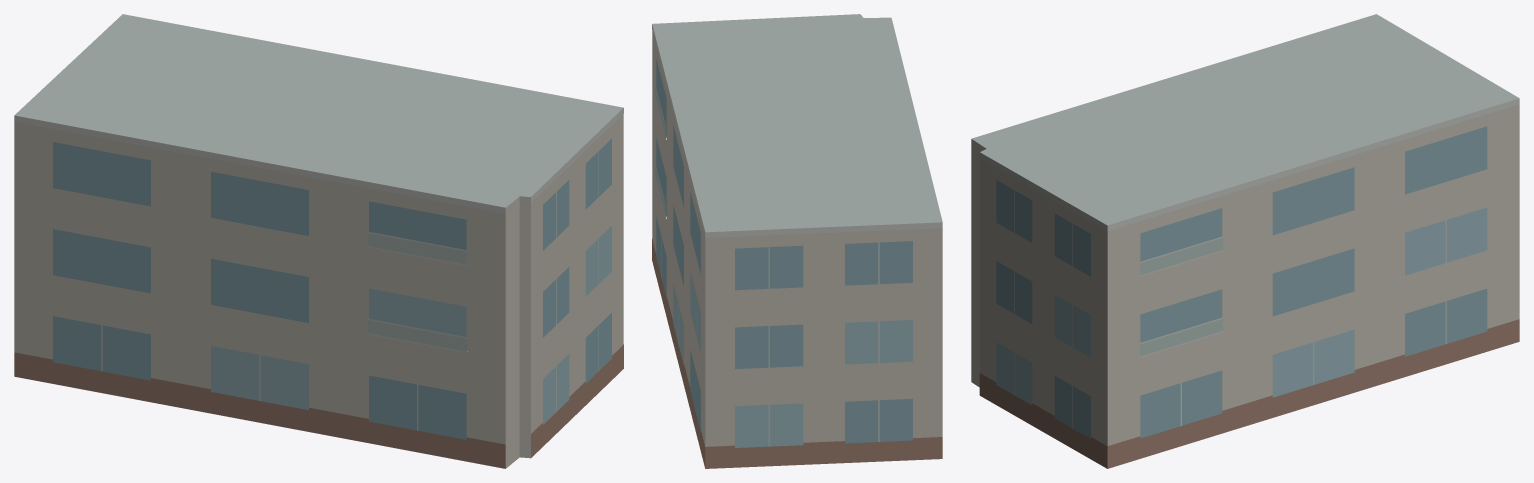
File: survey-upis-32530852.glb
3 renders of one model, left to right at view 1: azimuth 30°, elevation 25°; view 2: azimuth 150°, elevation 25°; view 3: azimuth 270°, elevation 25°, orthographic. The views are drawn at different scales.
Visible parts, largest first — view 1: survey-upis-32530852.tmp; view 2: survey-upis-32530852.tmp; view 3: survey-upis-32530852.tmp.
Boxes of the visible parts, x1,y1,x2,y2 form: survey-upis-32530852.tmp: (14, 14, 623, 468); survey-upis-32530852.tmp: (652, 14, 942, 468); survey-upis-32530852.tmp: (971, 14, 1519, 468).
Size of the model in its own units: 19.21 by 10.3 by 21.04.
